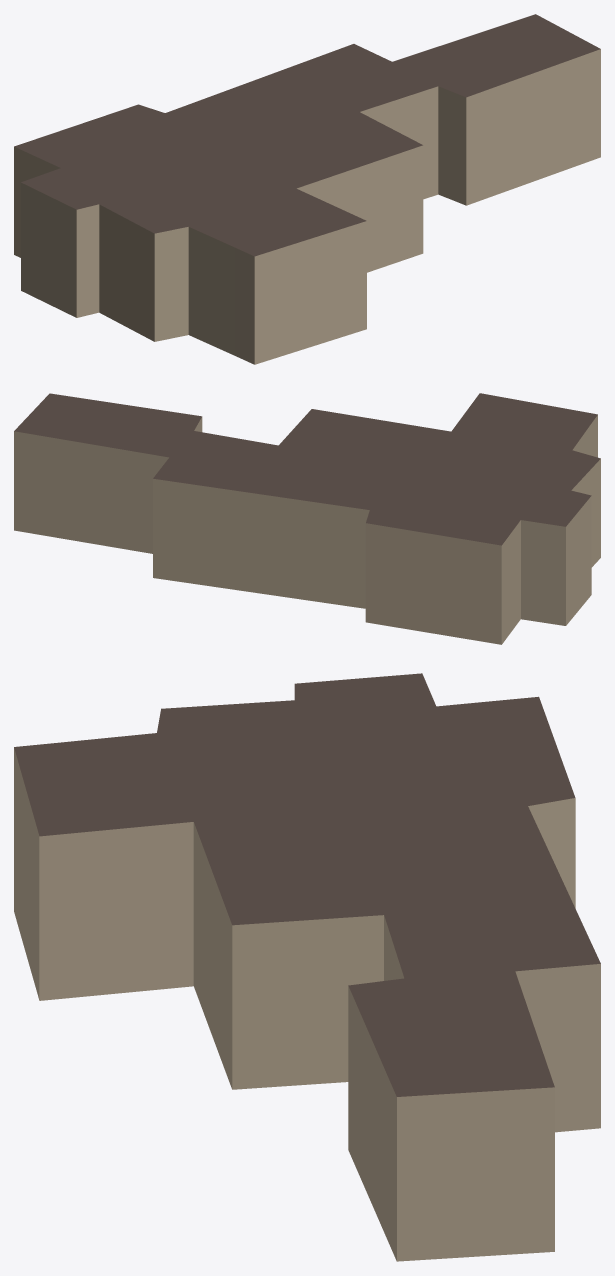
The picture shows the model from 3 angles, top to bottom: view 1: azimuth 30°, elevation 25°; view 2: azimuth 150°, elevation 25°; view 3: azimuth 270°, elevation 25°; orthographic projection. The views are drawn at different scales.
Parts seen in each view (by area): view 1: HP-w1512911278; view 2: HP-w1512911278; view 3: HP-w1512911278.
Part boxes in pixels (bbox=[...]): HP-w1512911278: bbox=[14, 14, 600, 364]; HP-w1512911278: bbox=[14, 393, 600, 644]; HP-w1512911278: bbox=[14, 673, 600, 1261].
Bounding box in the file's own units: 49.71 × 9 × 29.1.
